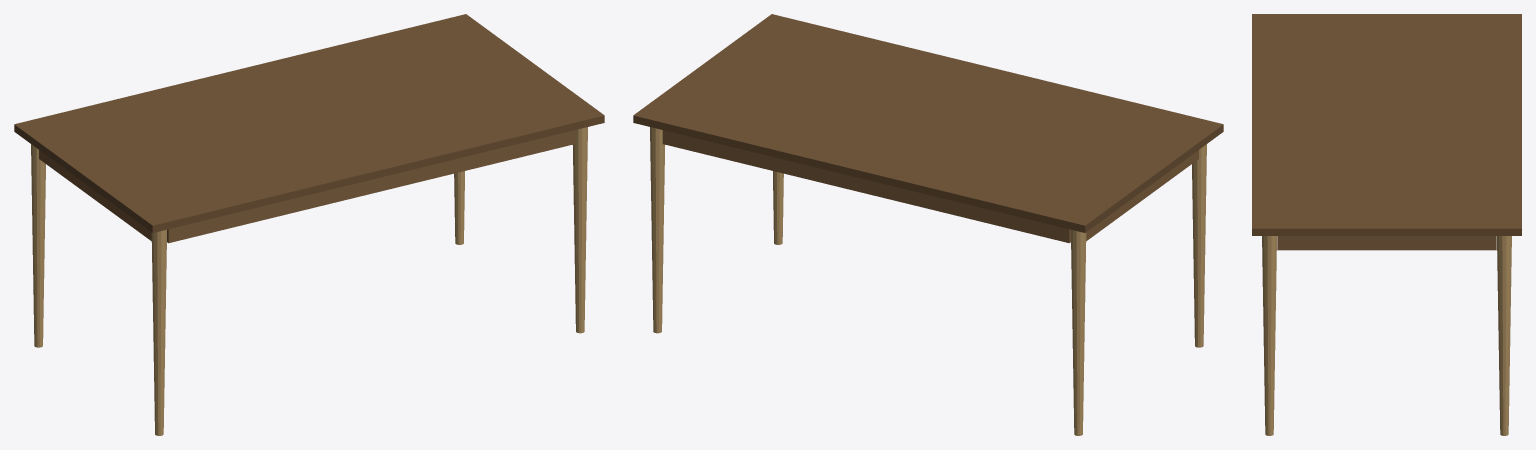
File: ATL-MCT-6-seat.glb
The picture shows the model from 3 angles, left to right: view 1: azimuth 30°, elevation 25°; view 2: azimuth 150°, elevation 25°; view 3: azimuth 270°, elevation 25°; orthographic projection. The views are drawn at different scales.
Parts seen in each view (by area): view 1: top:pbr, apron-f:pbr, leg-fl:pbr, leg-fr:pbr, leg-bl:pbr, apron-l:pbr, leg-br:pbr; view 2: top:pbr, apron-b:pbr, leg-bl:pbr, leg-br:pbr, leg-fl:pbr, apron-l:pbr, leg-fr:pbr; view 3: top:pbr, apron-r:pbr, leg-fr:pbr, leg-br:pbr.
Boxes of the visible parts, bbox=[...] form: top:pbr: bbox=[14, 14, 604, 232]; apron-f:pbr: bbox=[167, 130, 575, 243]; leg-fl:pbr: bbox=[151, 229, 166, 435]; leg-fr:pbr: bbox=[573, 127, 587, 333]; leg-bl:pbr: bbox=[31, 144, 45, 347]; apron-l:pbr: bbox=[39, 150, 151, 240]; leg-br:pbr: bbox=[454, 171, 464, 244]; top:pbr: bbox=[633, 14, 1223, 232]; apron-b:pbr: bbox=[662, 130, 1070, 243]; leg-bl:pbr: bbox=[1071, 229, 1086, 435]; leg-br:pbr: bbox=[650, 127, 664, 333]; leg-fl:pbr: bbox=[1192, 144, 1206, 347]; apron-l:pbr: bbox=[1086, 150, 1198, 240]; leg-fr:pbr: bbox=[773, 171, 783, 244]; top:pbr: bbox=[1252, 14, 1521, 235]; apron-r:pbr: bbox=[1277, 236, 1496, 250]; leg-fr:pbr: bbox=[1262, 236, 1276, 435]; leg-br:pbr: bbox=[1497, 236, 1511, 435].
Bounding box in the file's own units: 1.6 × 0.74 × 0.85.
